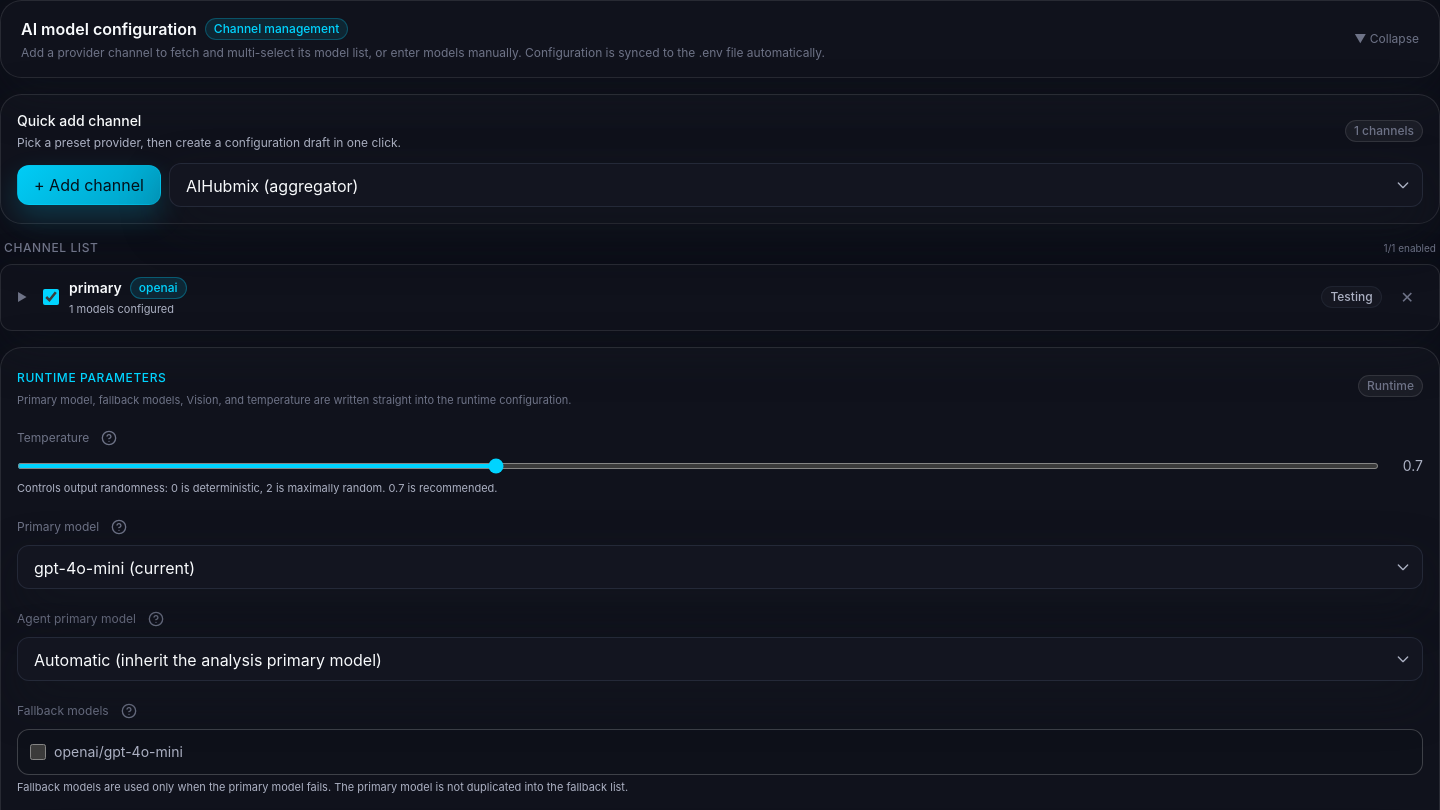
Scenario: LLMChannelEditor › prompts when bare runtime models loosely match canonical OpenAI route aliases
Click the button "▶ primary openai 1 models configured Testing ✕": (95, 288) [1,265,1439,330]
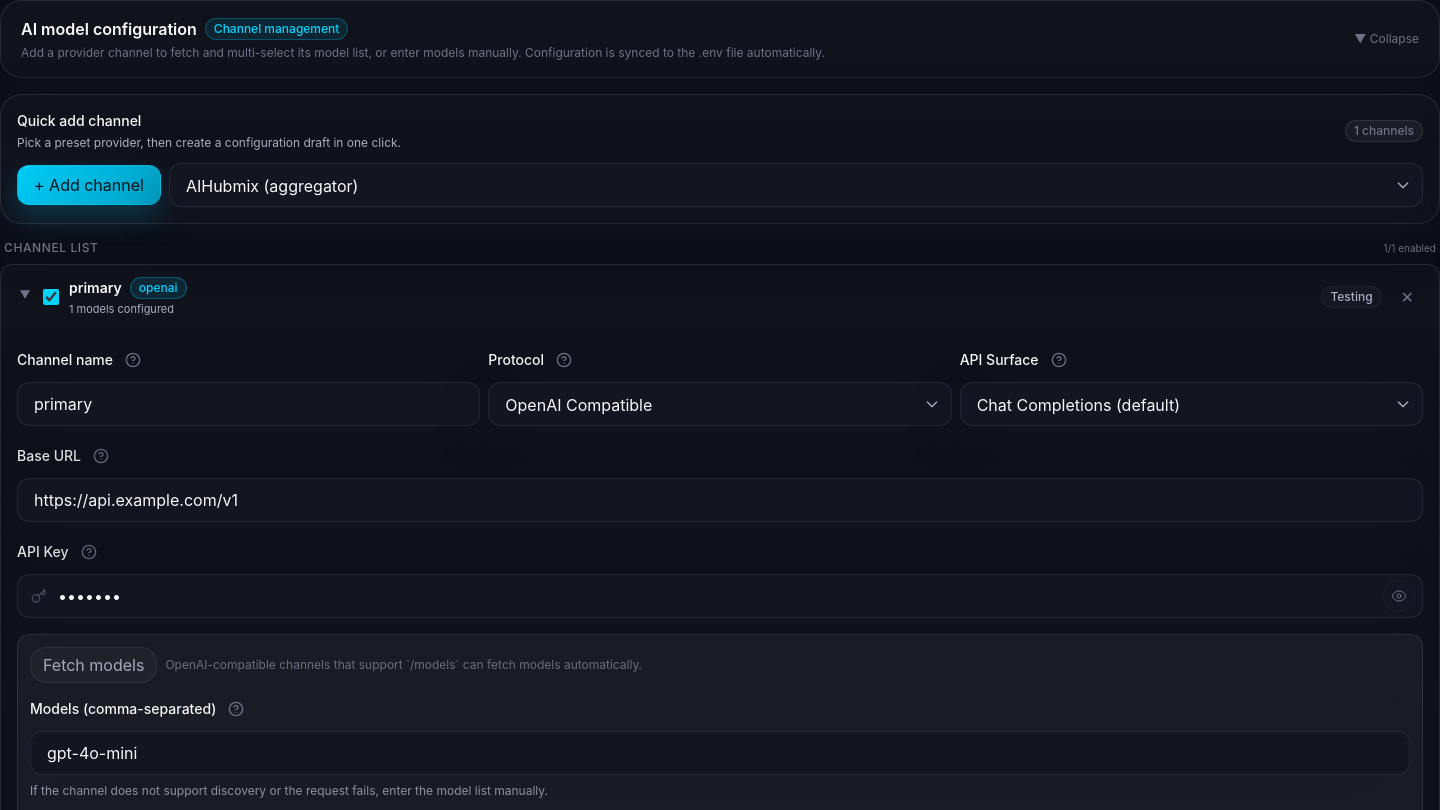
In the field labelled "Base URL": (720, 500) [17,478,1423,522], type "https://api.example.com/compatible/v1"
(page scrolled)
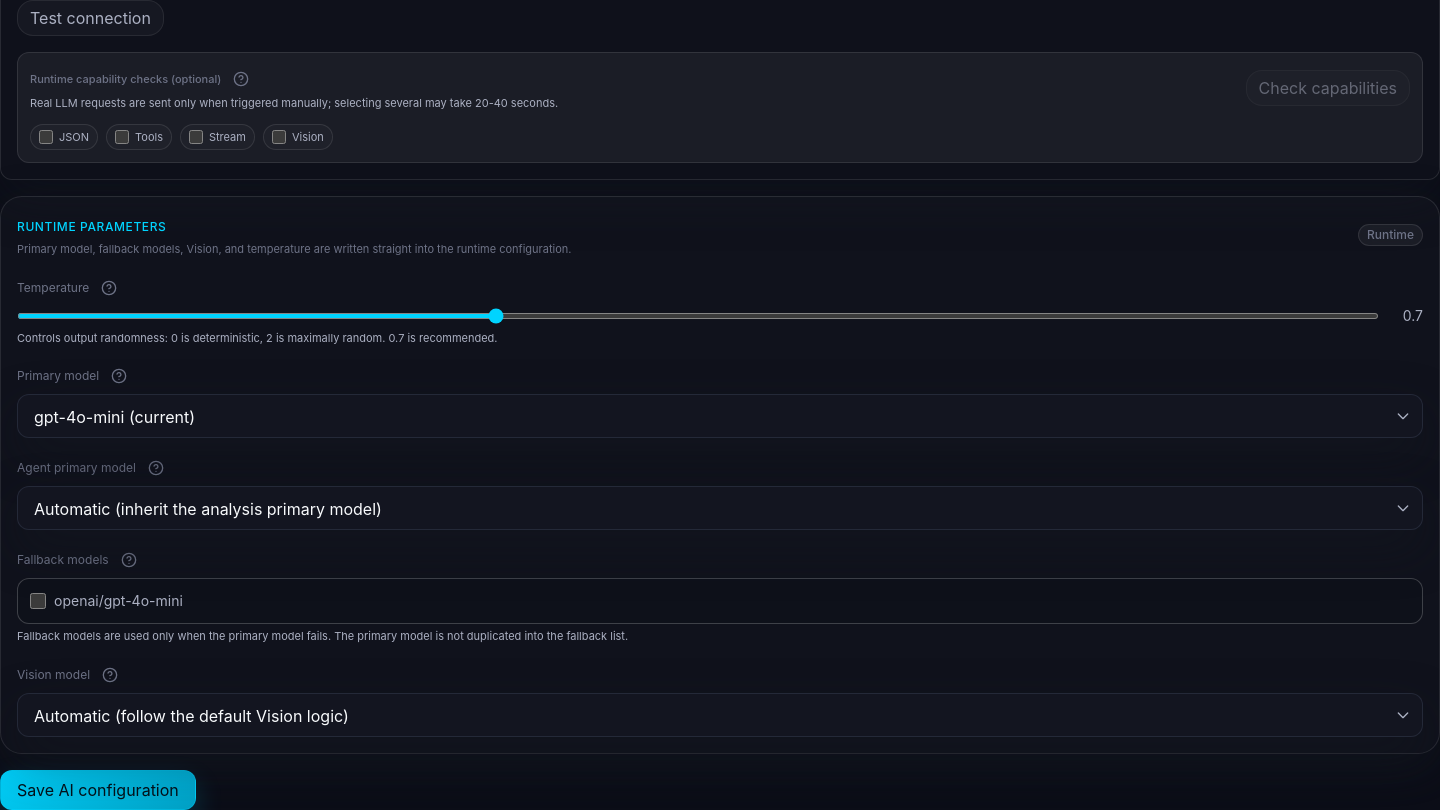
Click the button "Save AI configuration": (98, 790) [0,770,196,809]
(page scrolled)
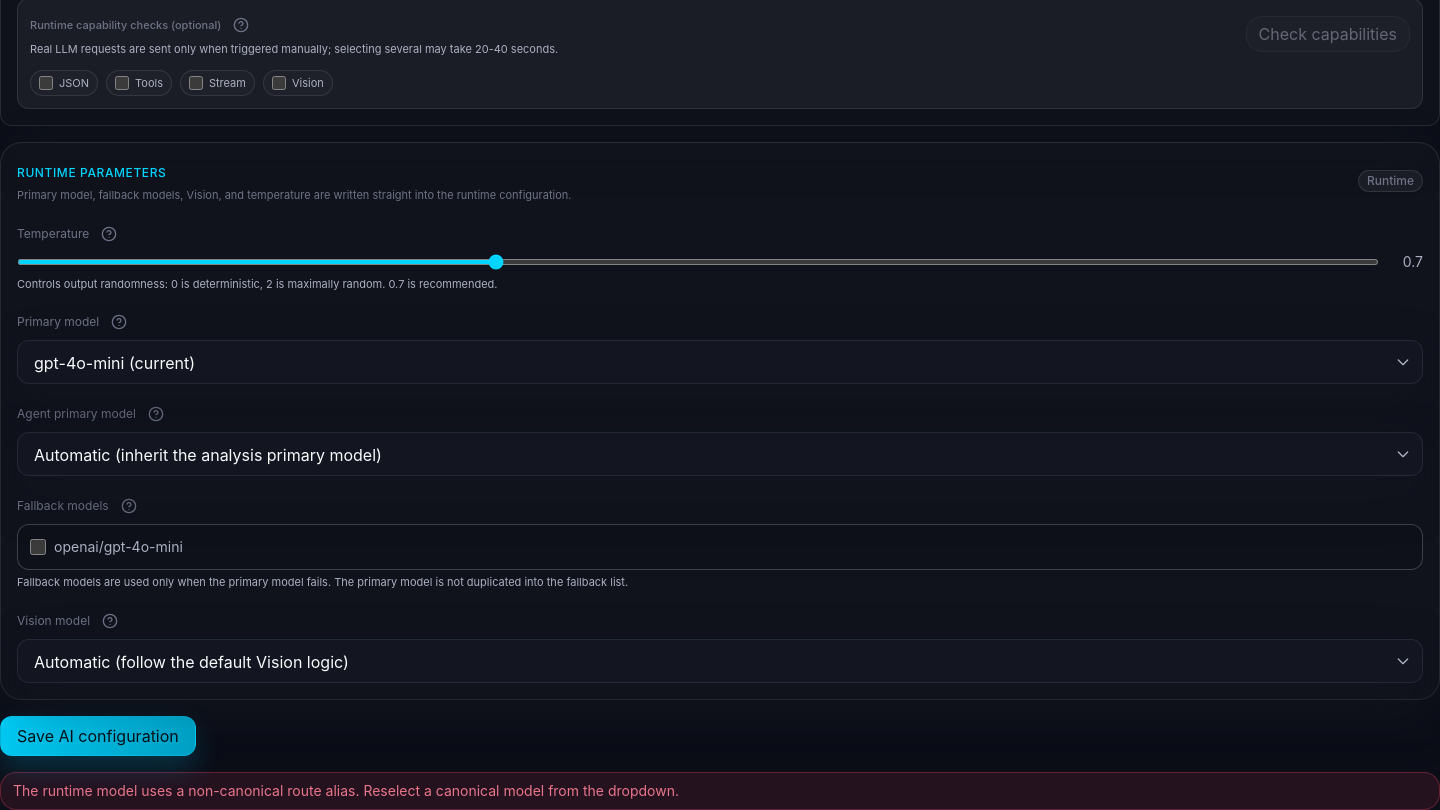
Now the text "The runtime model uses a non-canonical route alias. Reselect a canonical model from the dropdown." is shown, box [13,782,679,798]
